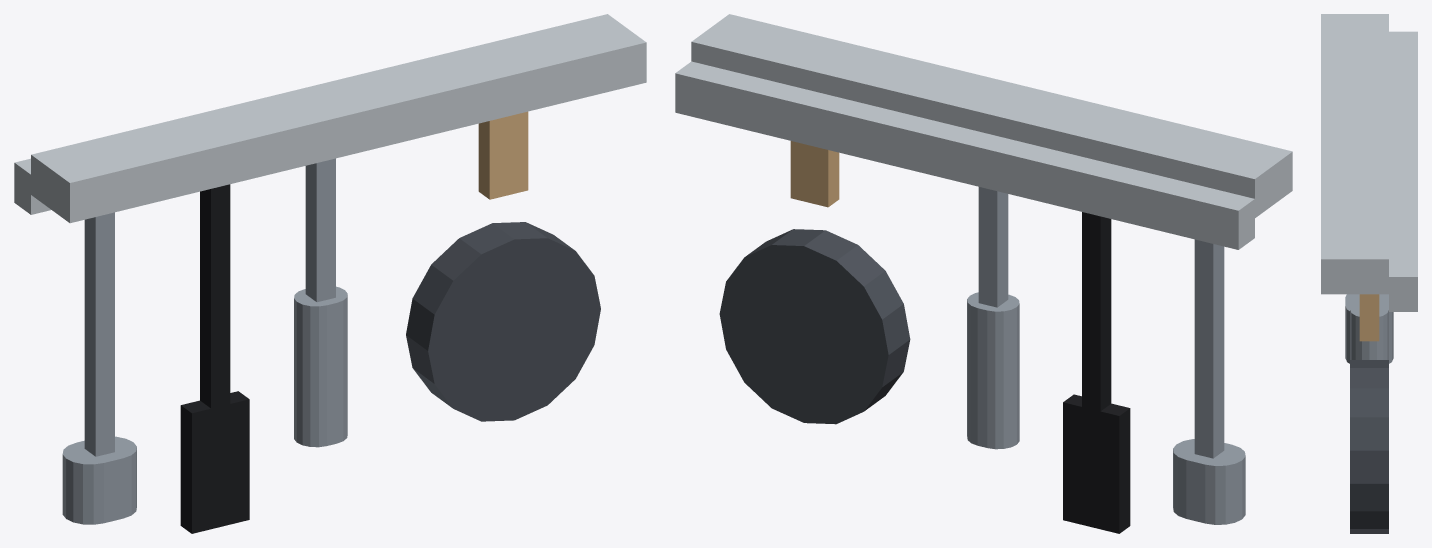
The model's file is kitchen_rack.glb.
The picture shows the model from 3 angles, left to right: view 1: azimuth 30°, elevation 25°; view 2: azimuth 150°, elevation 25°; view 3: azimuth 270°, elevation 25°; orthographic projection. The views are drawn at different scales.
Visible parts, largest first — view 1: kitchen_rack_Body; view 2: kitchen_rack_Body; view 3: kitchen_rack_Body.
Part boxes in pixels (x1,y1,x2,y2): kitchen_rack_Body: (14,14,646,533); kitchen_rack_Body: (675,14,1292,533); kitchen_rack_Body: (1321,14,1417,533).
Bounding box in the file's own units: 0.6 × 0.4 × 0.1.
